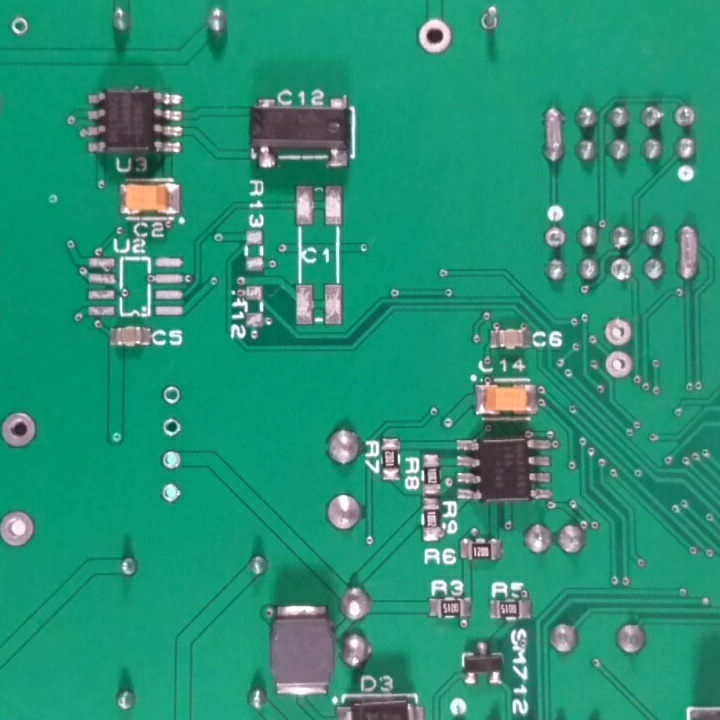F: (1, 409, 39, 450), (414, 16, 455, 54), (1, 508, 36, 548), (599, 315, 638, 349), (602, 350, 639, 381), (476, 3, 503, 34), (671, 104, 699, 132), (607, 255, 635, 283), (541, 224, 567, 250), (157, 449, 183, 472), (159, 480, 181, 506), (159, 383, 183, 406), (10, 16, 33, 38), (161, 416, 181, 439)
P: (541, 103, 567, 166), (675, 221, 701, 283)
